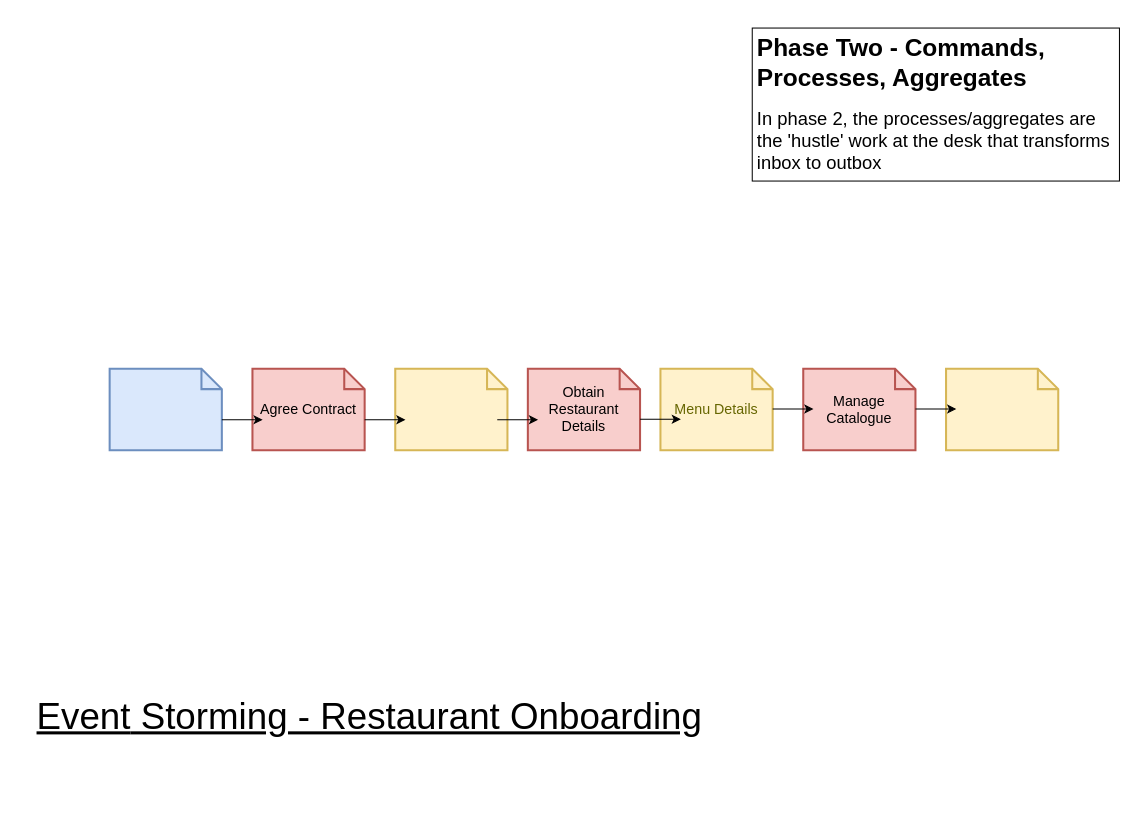
Some shapes in this 1137 by 820 pixel diagram are drawn without their labels. The shapes that lost their labels are listed below. From the top down, each one's box as (x1, y1, x2, y2) in pixels, then its label:
(108, 367, 222, 451): Add my Restaurant
(394, 367, 508, 451): Restaurant Signed-Up
(945, 367, 1059, 451): Restaurant Catalogue Updated
